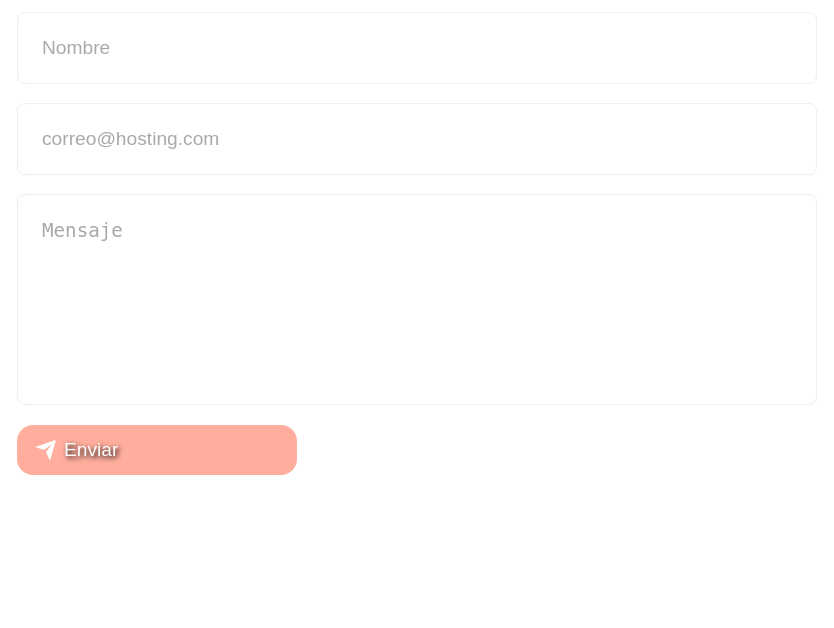
Test case: Form Component › shows validation errors on empty submit
The image size is (834, 628).
Click the button "Enviar". click: (91, 450)
box: [17,425,297,476]
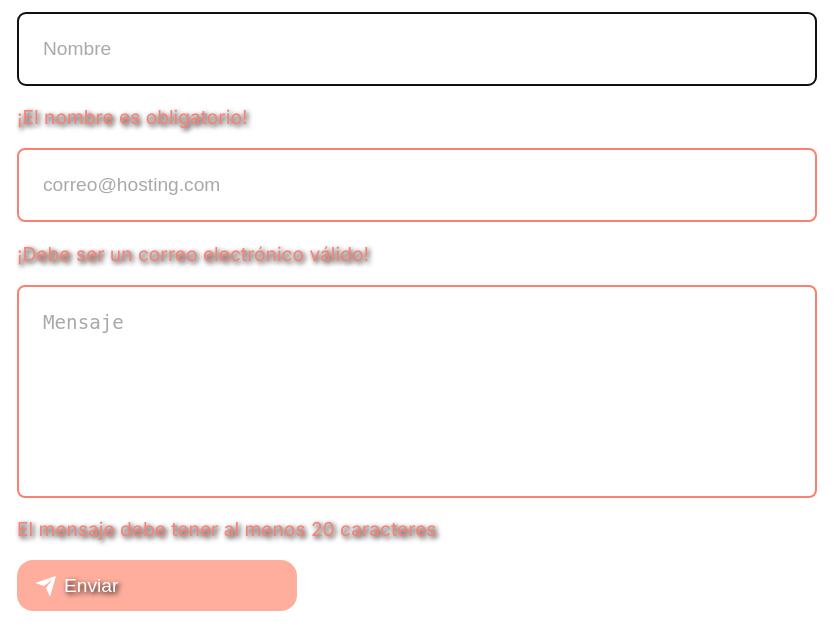
Now the text "¡El nombre es obligatorio!" is shown, box [17,105,248,129]
Now the text "¡Debe ser un correo electrónico válido!" is shown, box [17,242,369,266]
Now the text "El mensaje debe tener al menos 20 caracteres" is shown, box [17,517,436,541]
